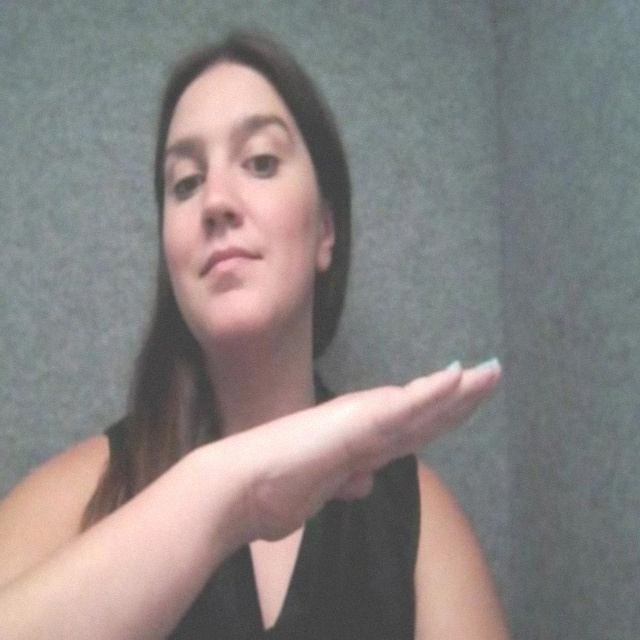Paper: (226, 330, 537, 521)
